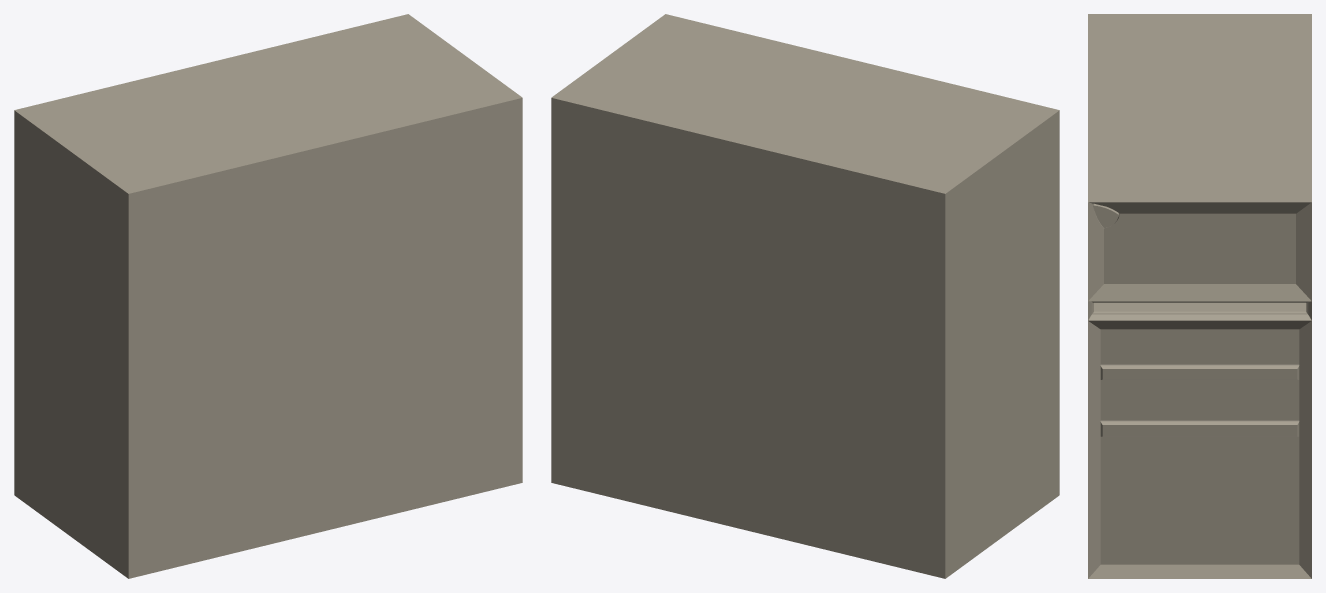
File: Comp.fbx
3 views of the same model, side by side, from view 1: azimuth 30°, elevation 25°; view 2: azimuth 150°, elevation 25°; view 3: azimuth 270°, elevation 25° (orthographic). The views are drawn at different scales.
Visible parts, largest first — view 1: Systemnic; view 2: Systemnic; view 3: Systemnic.
Boxes of the visible parts, x1,y1,x2,y2 form: Systemnic: [14, 14, 522, 578]; Systemnic: [551, 14, 1059, 578]; Systemnic: [1088, 14, 1311, 578].
Bounding box in the file's own units: 398 × 371 × 200.
